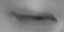LeftEyeFatigue: (5, 6, 62, 29)
